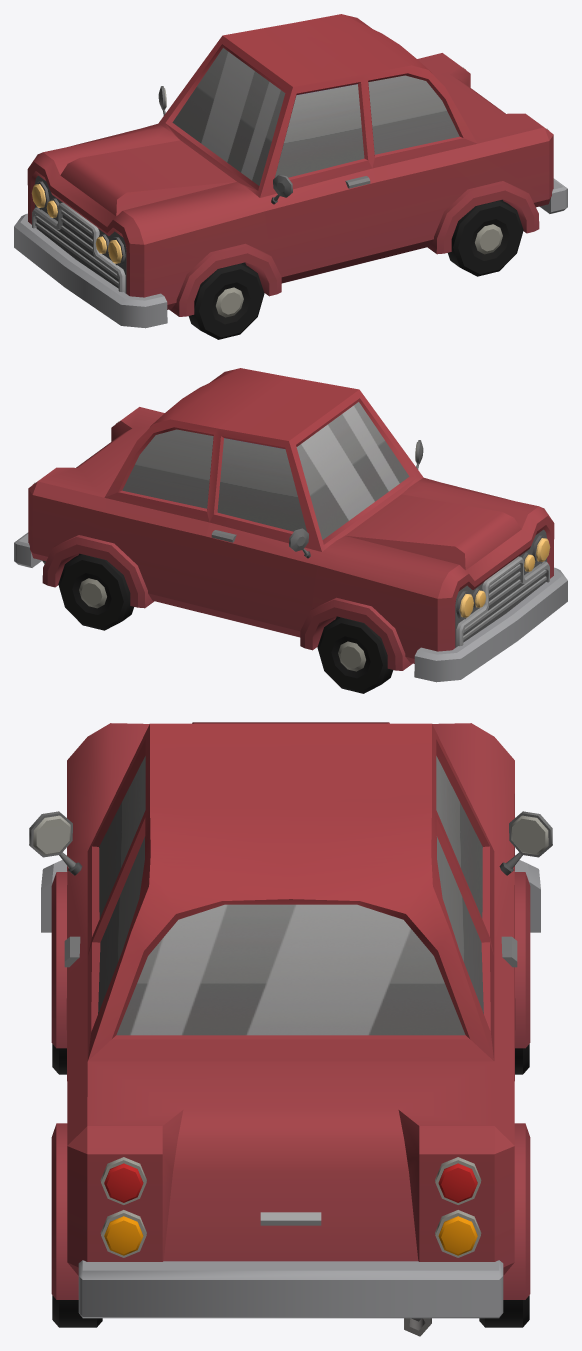
The model's file is Car_7_T.gltf.
The picture shows the model from 3 angles, top to bottom: view 1: azimuth 30°, elevation 25°; view 2: azimuth 150°, elevation 25°; view 3: azimuth 270°, elevation 25°; orthographic projection. The views are drawn at different scales.
Visible parts, largest first — view 1: Car_7_T, RL, FL; view 2: Car_7_T, RR, FR; view 3: Car_7_T, RL, RR.
Boxes of the visible parts, x1,y1,x2,y2 form: Car_7_T: (14, 14, 567, 328); RL: (448, 200, 523, 276); FL: (188, 263, 264, 339); Car_7_T: (14, 368, 567, 682); RR: (58, 554, 133, 630); FR: (317, 617, 393, 693); Car_7_T: (29, 722, 552, 1336); RL: (52, 1295, 102, 1327); RR: (479, 1295, 529, 1327).
Bounding box in the file's own units: 3.38 × 1.52 × 1.7.
3 materials, 3 textured.
